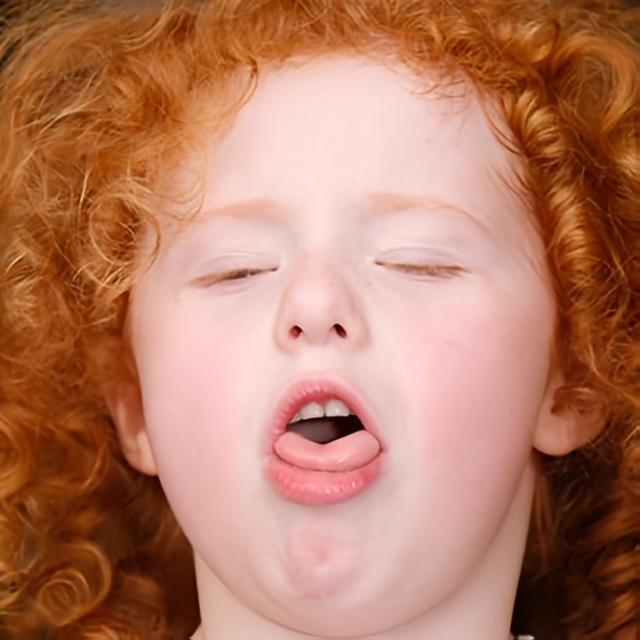surprise: (124, 43, 556, 637)
